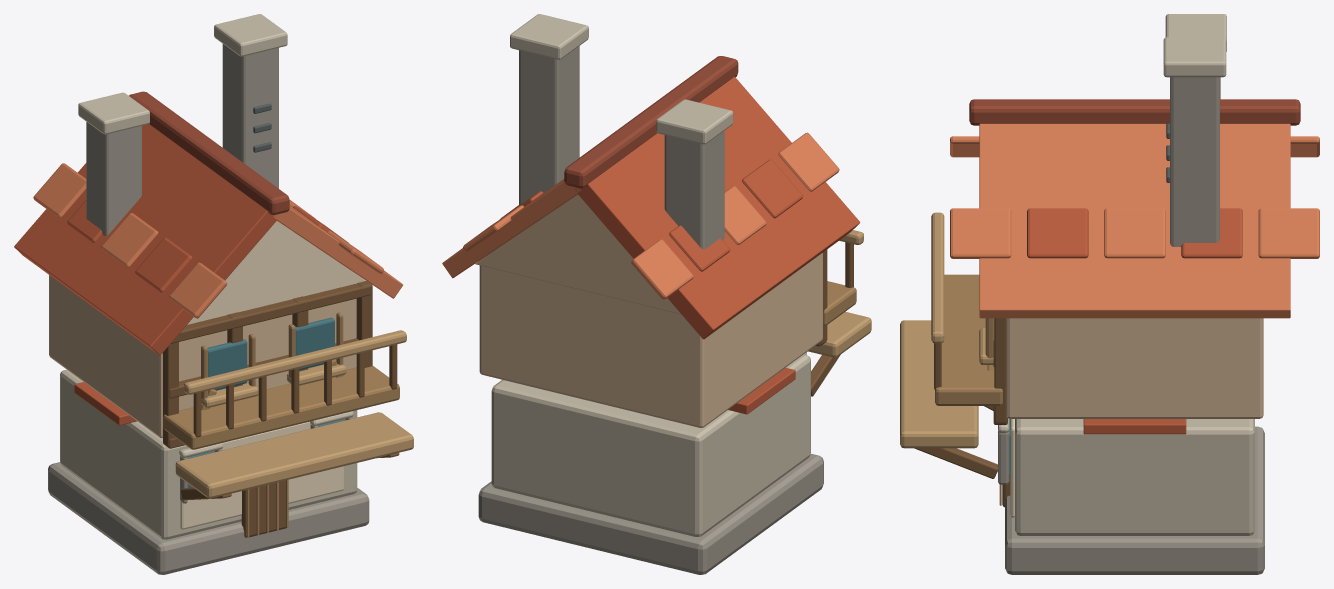
File: house_large_c.glb
The picture shows the model from 3 angles, left to right: view 1: azimuth 30°, elevation 25°; view 2: azimuth 150°, elevation 25°; view 3: azimuth 270°, elevation 25°; orthographic projection. The views are drawn at different scales.
Visible parts, largest first — view 1: LargeHouseVariantC_Geometry; view 2: LargeHouseVariantC_Geometry; view 3: LargeHouseVariantC_Geometry.
Boxes of the visible parts, x1,y1,x2,y2 form: LargeHouseVariantC_Geometry: [14, 14, 413, 574]; LargeHouseVariantC_Geometry: [442, 14, 871, 574]; LargeHouseVariantC_Geometry: [900, 14, 1319, 574].
Bounding box in the file's own units: 2.33 × 3.92 × 2.94.
